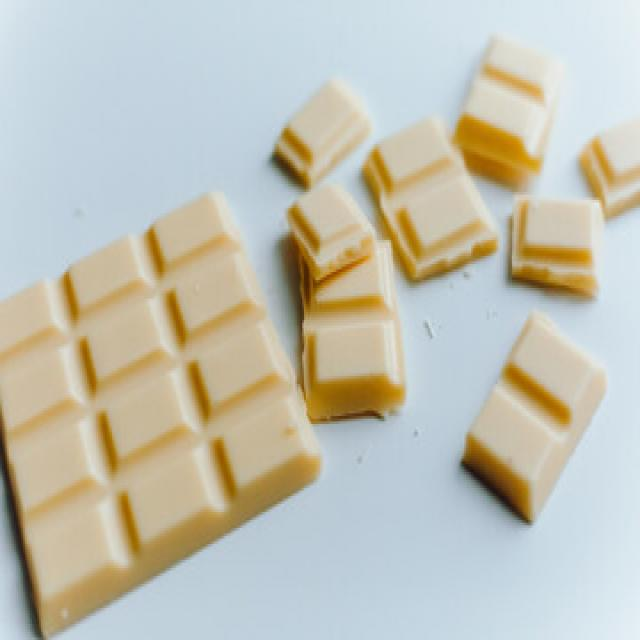Chocolate: (0, 184, 322, 640), (459, 312, 608, 529), (363, 115, 501, 278), (299, 238, 410, 426), (451, 36, 556, 179), (275, 71, 371, 185), (287, 171, 373, 281), (510, 198, 604, 298), (578, 115, 640, 221)
